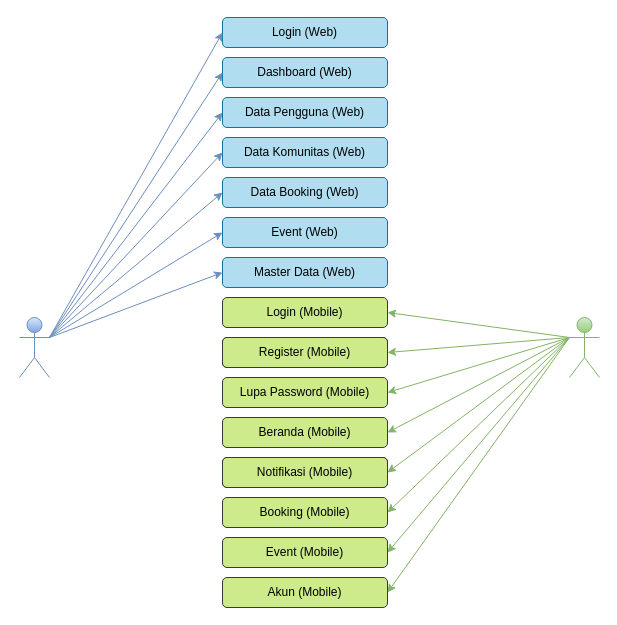
This 617x625 diagram has some shape labels left out. Each missing label, with the centre of its shape:
"Admin" belongs at [34,347].
"User" belongs at [584,347].
